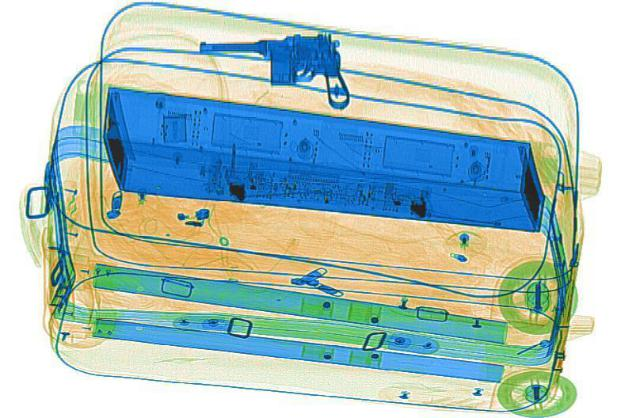Gun: (194, 30, 354, 115)
